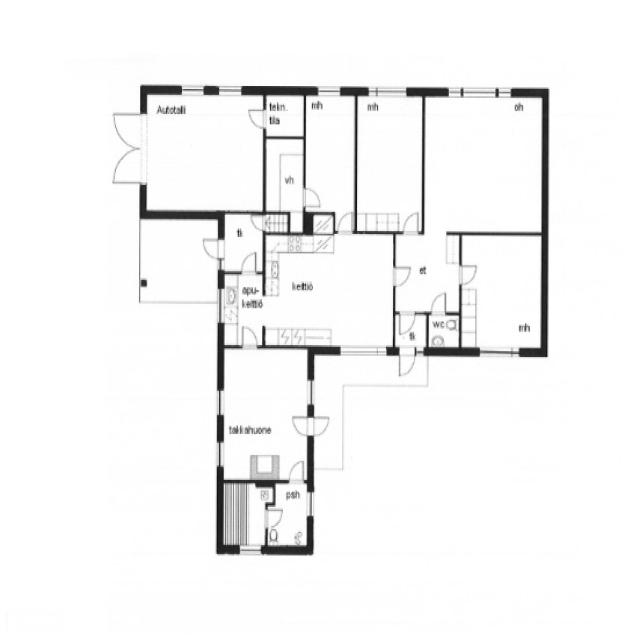door: (106, 105, 150, 195), (292, 412, 332, 439), (198, 233, 226, 264), (396, 347, 418, 380), (389, 262, 414, 290), (456, 261, 481, 288), (396, 308, 418, 338), (428, 288, 449, 318), (246, 105, 269, 132), (263, 503, 285, 531), (239, 249, 260, 278), (300, 185, 323, 210), (287, 456, 306, 485), (401, 209, 421, 236), (336, 209, 355, 235), (240, 323, 258, 350), (248, 212, 269, 234)
window: (219, 483, 270, 555), (442, 78, 516, 102), (363, 79, 414, 102), (336, 340, 392, 360), (474, 342, 524, 362), (214, 388, 226, 467), (174, 78, 211, 100), (312, 80, 349, 102), (213, 81, 247, 100), (234, 542, 266, 558), (214, 285, 226, 325), (214, 385, 226, 422), (304, 488, 317, 520), (214, 437, 226, 471), (305, 377, 316, 410)
zone: (421, 88, 547, 235), (263, 231, 393, 349), (143, 90, 265, 215), (220, 346, 312, 483), (460, 229, 545, 352), (356, 90, 425, 234), (304, 89, 357, 226), (395, 226, 461, 317), (218, 479, 269, 552), (268, 476, 312, 554), (264, 134, 304, 218), (264, 90, 304, 138), (428, 313, 460, 350)
